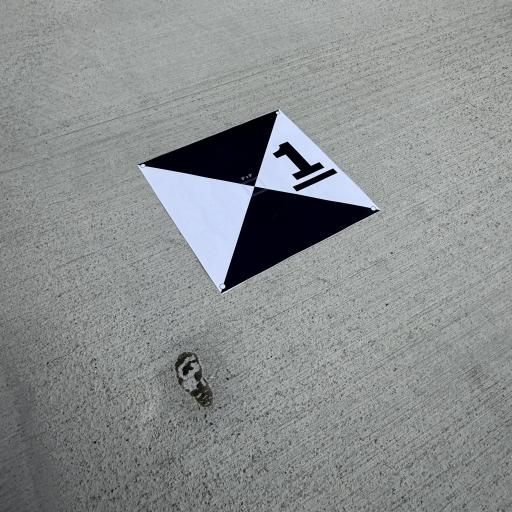target1: (134, 102, 385, 296)
